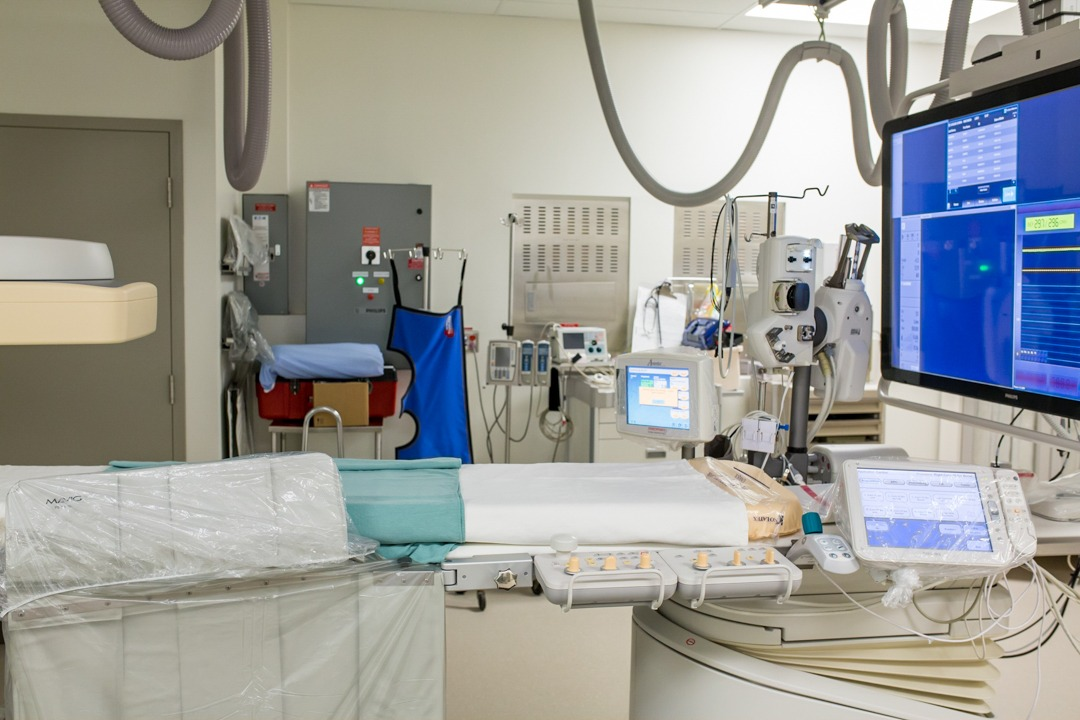TV: (884, 60, 1080, 419)
bedside_monitor: (841, 457, 1032, 576), (613, 350, 719, 444)
electrosurgical_unit: (547, 318, 609, 381)
infusion_pump: (490, 338, 550, 386)
iv_pole: (724, 179, 839, 237), (387, 242, 472, 311), (494, 211, 515, 461)
operating_bed: (1, 447, 802, 720)
